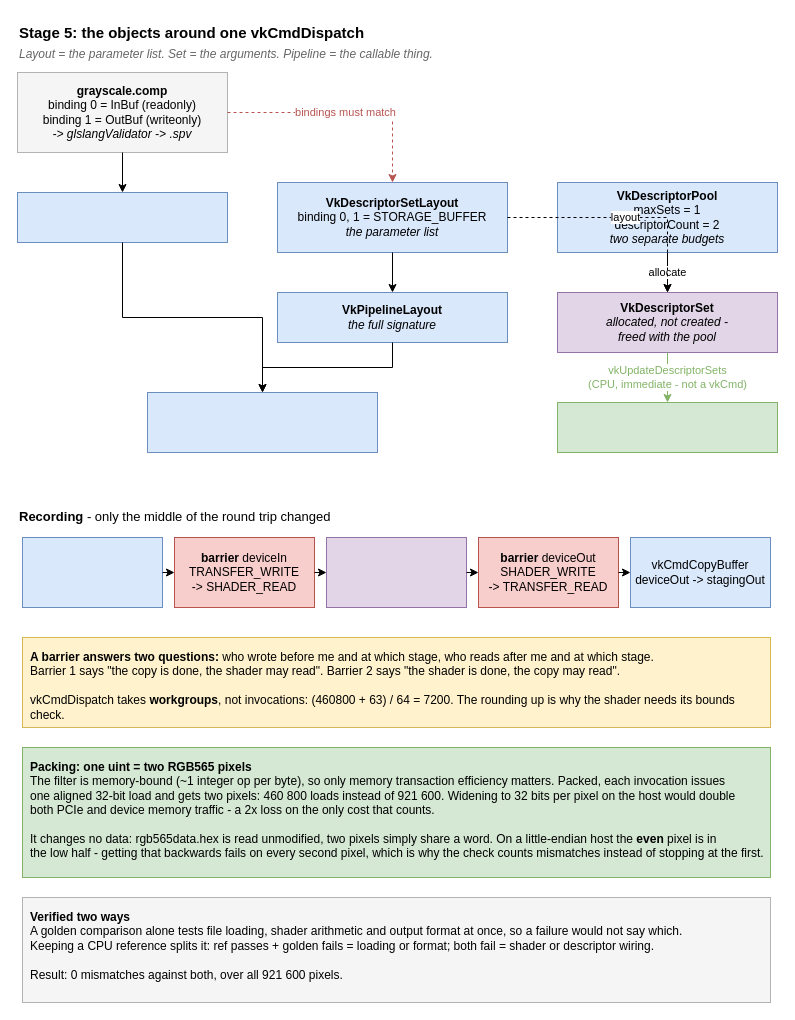
Image size: 795x1020. Some labels were removed from this diagram. The shapes that lost their labels are listed below. From the top down, each one's centre as x and y in pixels, then its label:
the point at 122,217: VkShaderModule loadShader()
the point at 262,422: VkPipeline (compute) shader module may be destroyed as soon as this exists
the point at 667,427: deviceIn -> binding 0 deviceOut -> binding 1
the point at 92,572: vkCmdCopyBuffer stagingIn -> deviceIn
the point at 396,572: bind pipeline bind descriptor set vkCmdDispatch(7200)
